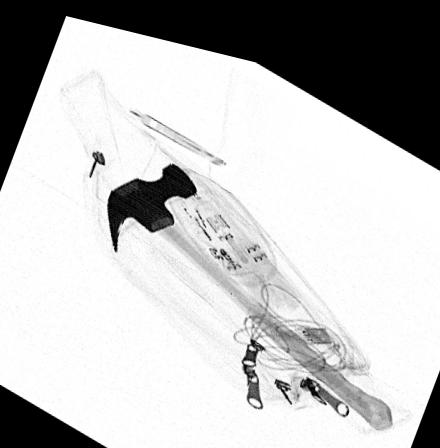Hammer: (105, 152, 393, 412)
